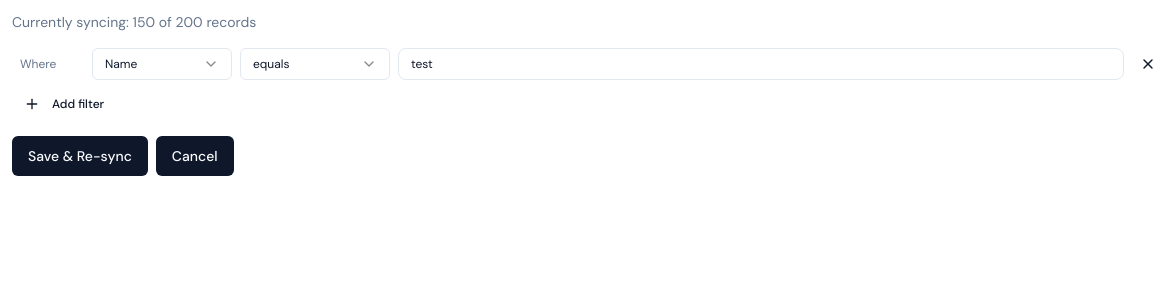
SyncFilterEditor › shows quota remaining when available
Trigger filter change to fetch estimate
Click the button "Add filter": (64, 104) x1=12 y1=88 x2=116 y2=120
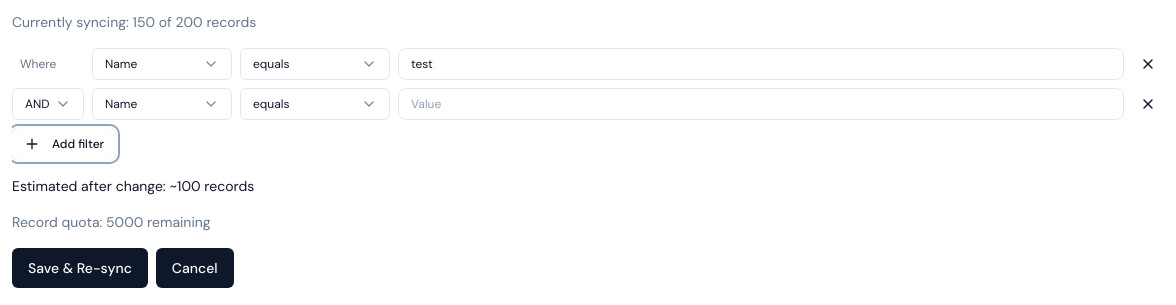
expect the text with test id "quota-remaining" reads "Record quota: 5000 remaining": met, box x1=12 y1=213 x2=211 y2=231
